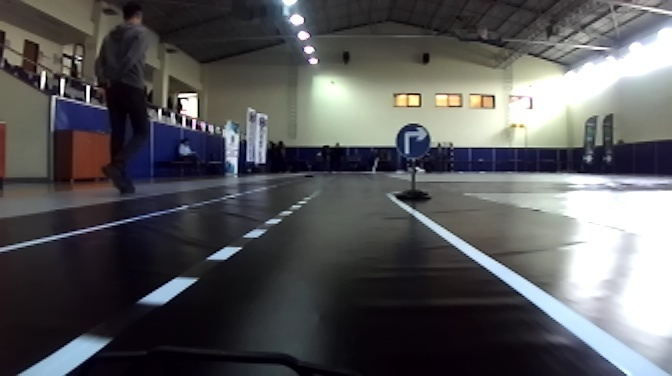saga_donus: (396, 122, 431, 157)
